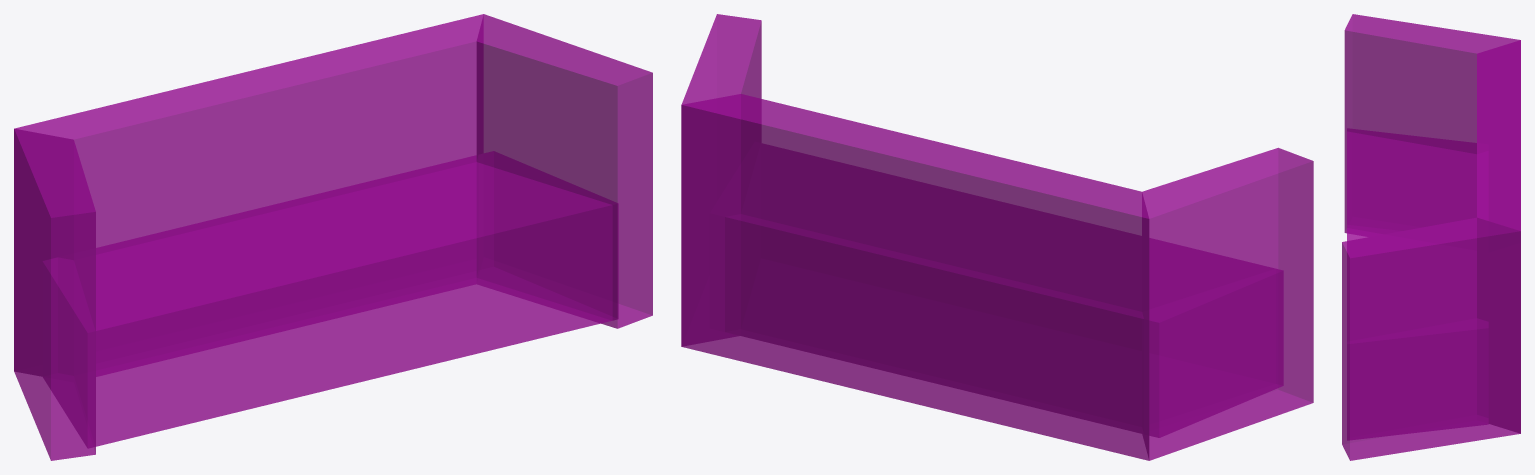
Rendered from SM_Prop_Bench_02_Collision.fbx.
3 renders of one model, left to right at view 1: azimuth 30°, elevation 25°; view 2: azimuth 150°, elevation 25°; view 3: azimuth 270°, elevation 25°, orthographic. The views are drawn at different scales.
Parts seen in each view (by area): view 1: SM_Prop_Bench_02_Collision; view 2: SM_Prop_Bench_02_Collision; view 3: SM_Prop_Bench_02_Collision.
Part boxes in pixels (x1,y1,x2,y2): SM_Prop_Bench_02_Collision: (14, 14, 652, 460); SM_Prop_Bench_02_Collision: (681, 14, 1313, 460); SM_Prop_Bench_02_Collision: (1342, 14, 1520, 460).
Bounding box in the file's own units: 271 × 105 × 83.8.
